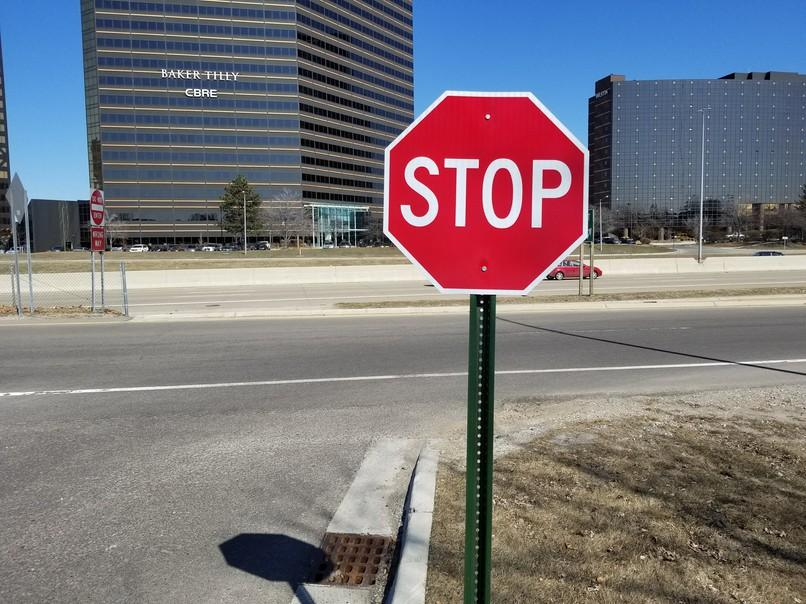Pole: (467, 302, 499, 601), (100, 250, 104, 312), (91, 251, 95, 310)
Sign: (373, 84, 593, 298)
